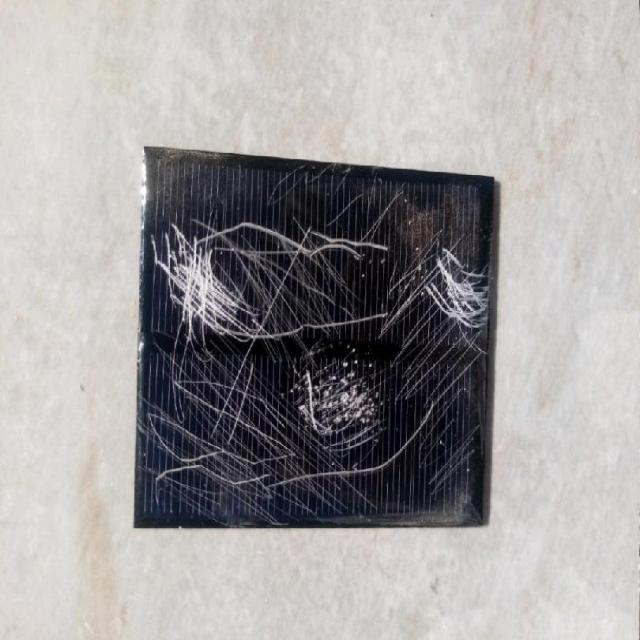faulty: (134, 151, 480, 512)
